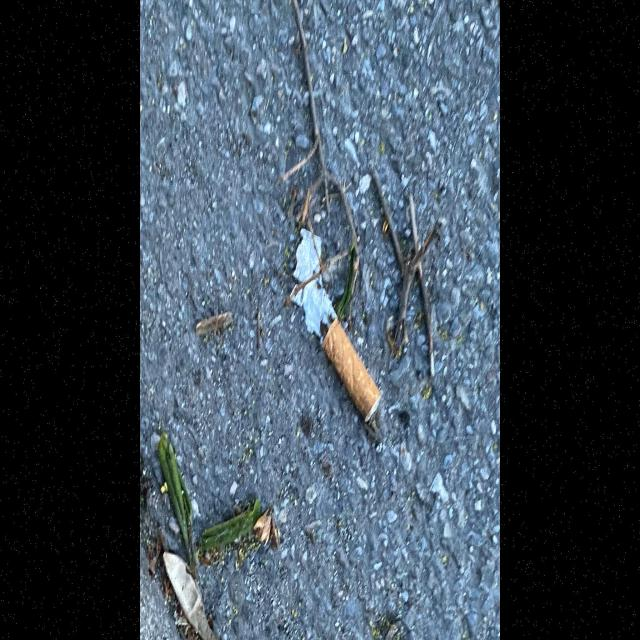other waste: (289, 227, 382, 422)
